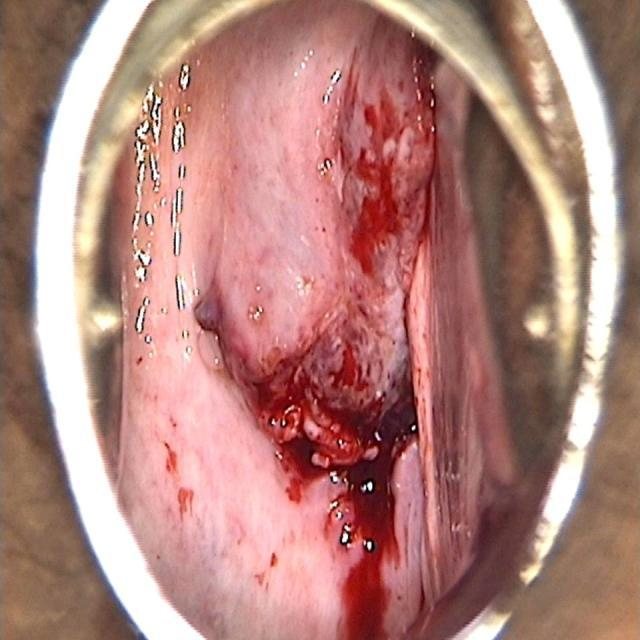cervical_lesion: (116, 2, 484, 640)
